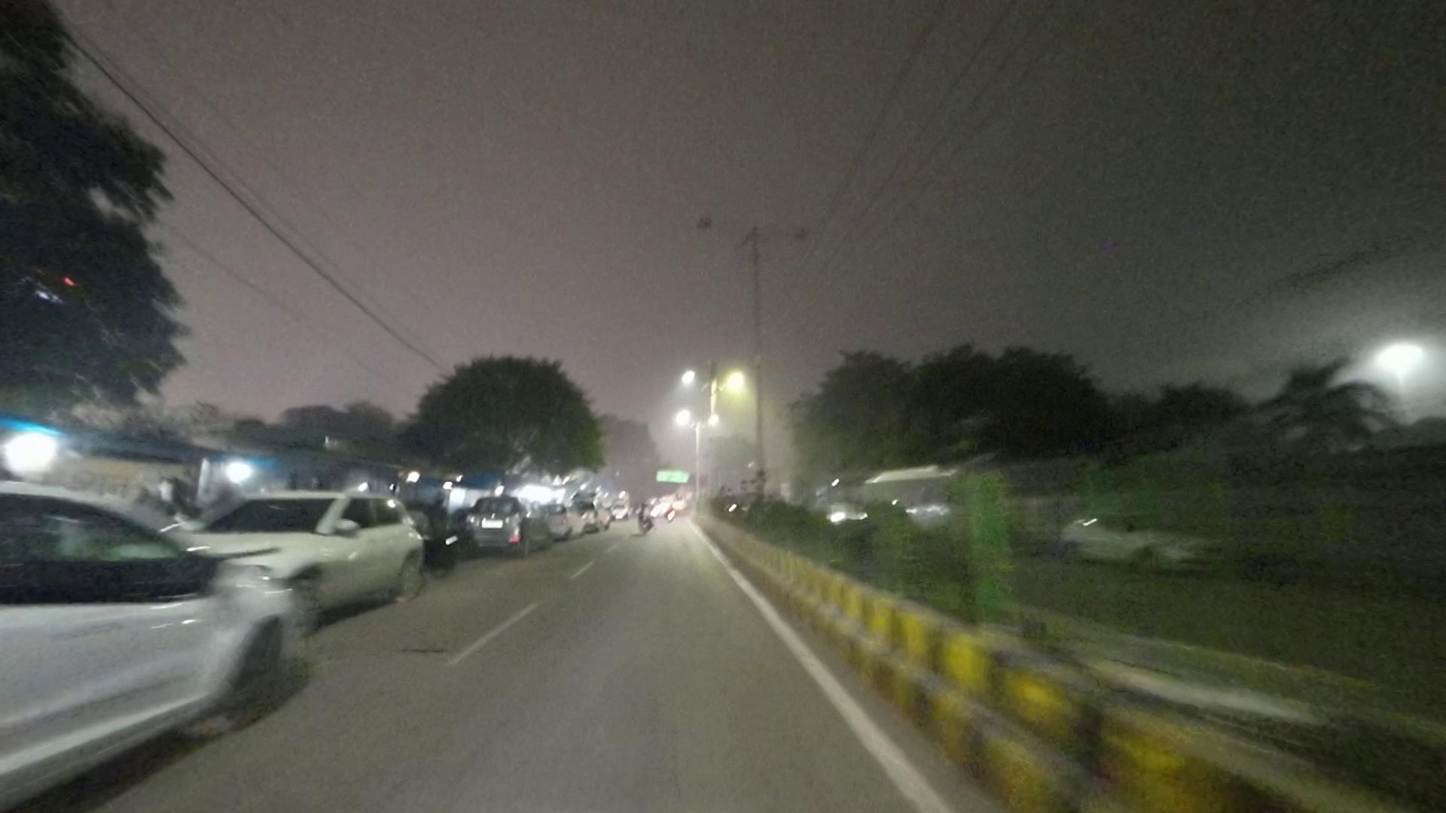streetlight: (760, 224, 814, 244), (694, 217, 746, 236)
